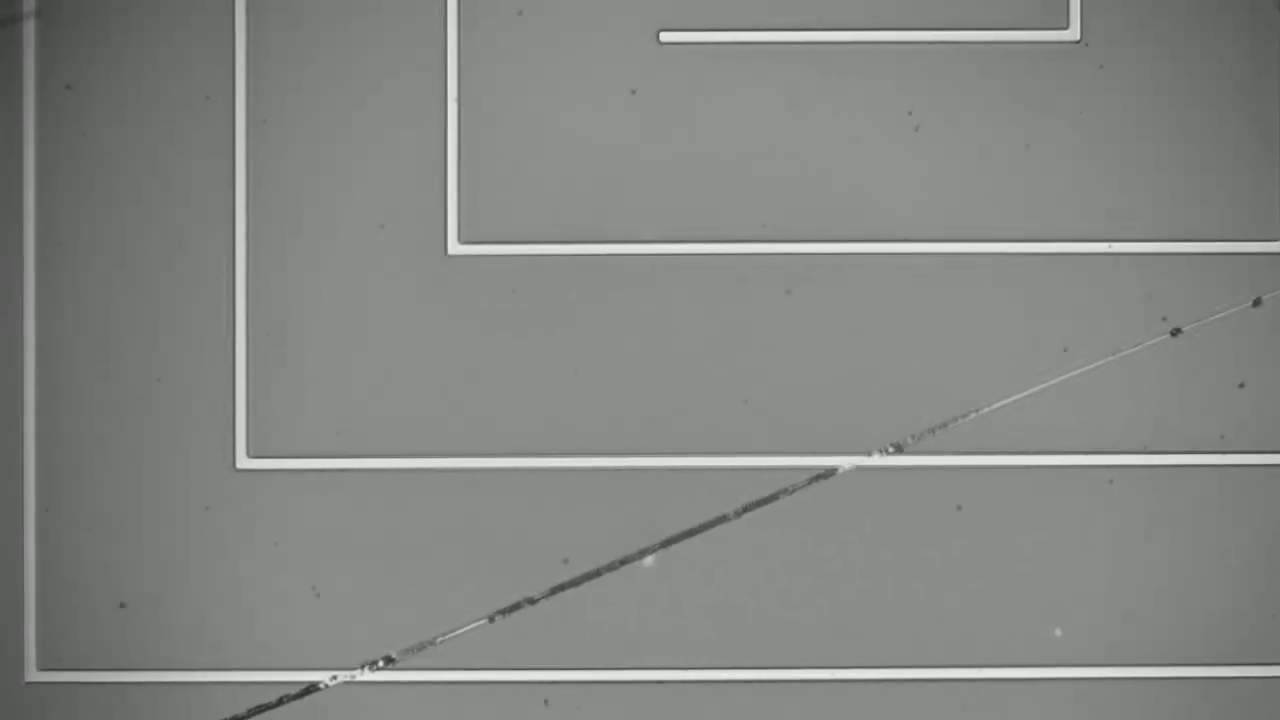scratch: (248, 287, 1280, 714)
